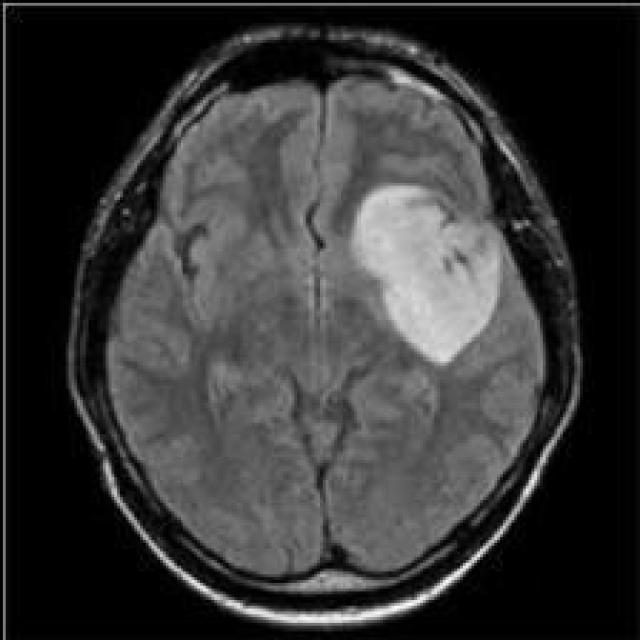Tumor: (351, 177, 503, 366)
